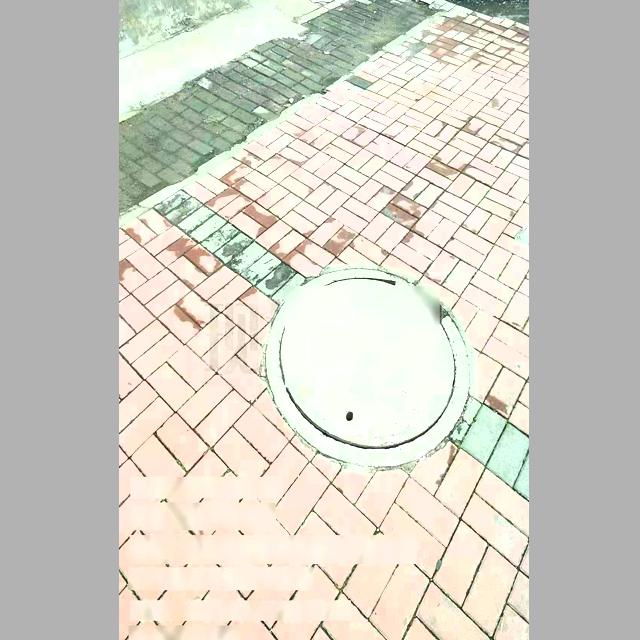circle: (261, 268, 473, 474)
